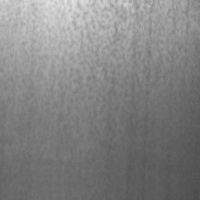pitted_surface: (1, 0, 200, 132)
